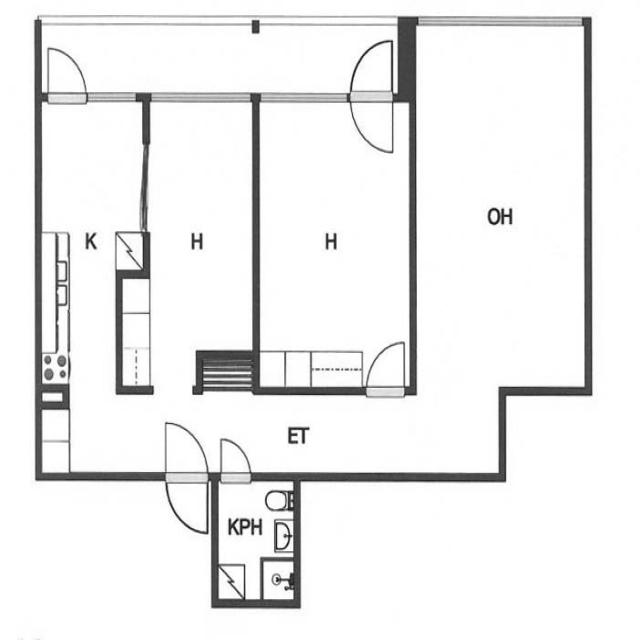door: (159, 417, 211, 539), (347, 36, 396, 158), (362, 336, 411, 398), (44, 43, 90, 108), (214, 434, 256, 483)
window: (421, 12, 584, 42), (149, 86, 252, 108), (258, 86, 349, 108), (138, 140, 153, 241), (85, 88, 142, 106)
zone: (415, 21, 592, 400), (255, 93, 416, 391), (36, 82, 135, 477), (144, 99, 256, 364), (38, 98, 148, 281), (215, 476, 297, 606)
